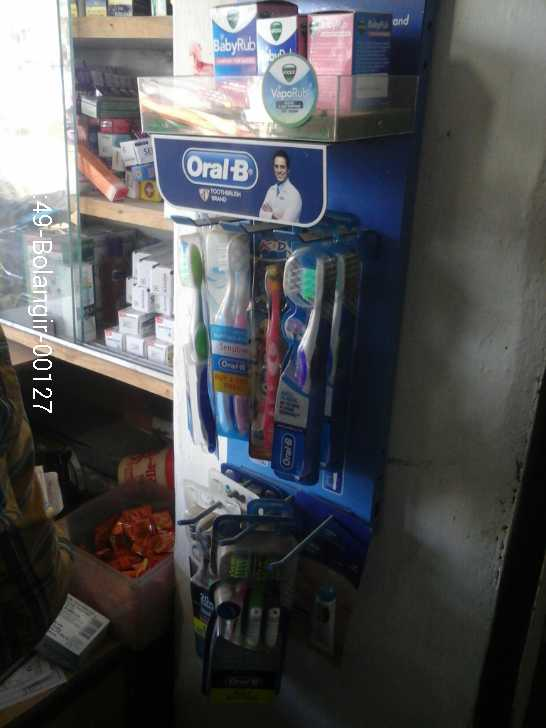pharmacy: (275, 238, 324, 484), (178, 216, 216, 462), (203, 227, 252, 412), (203, 3, 257, 92)
